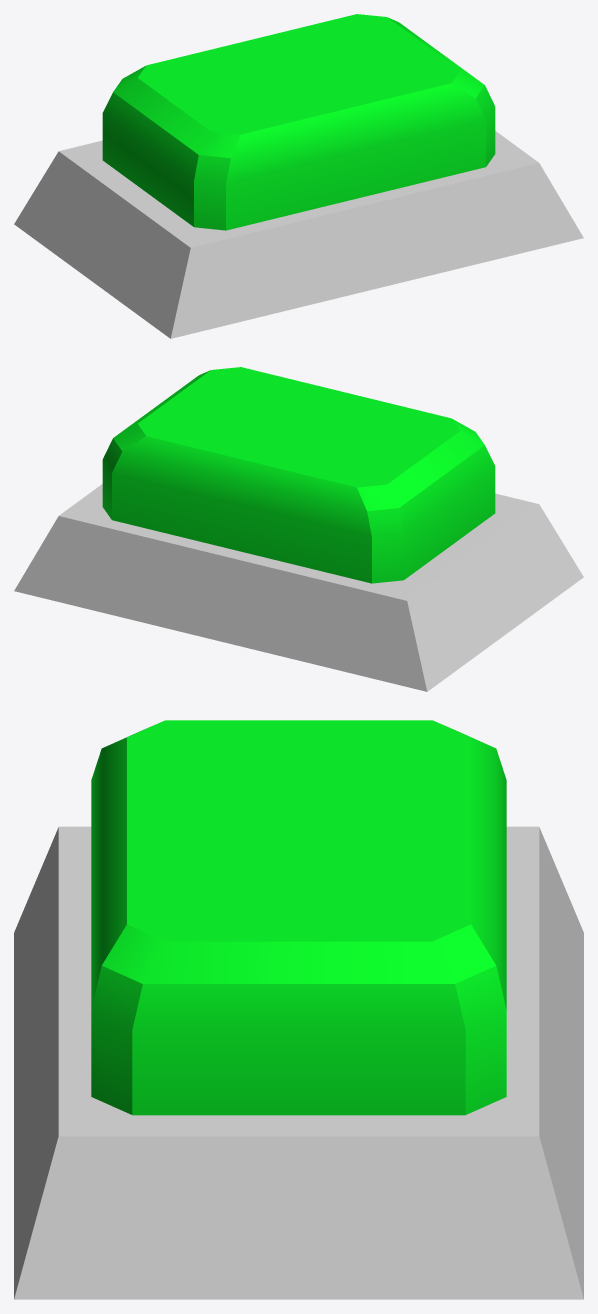
The model's file is LED_2_Green.fbx.
The picture shows the model from 3 angles, top to bottom: view 1: azimuth 30°, elevation 25°; view 2: azimuth 150°, elevation 25°; view 3: azimuth 270°, elevation 25°; orthographic projection. The views are drawn at different scales.
Visible parts, largest first — view 1: LED_2_Green; view 2: LED_2_Green; view 3: LED_2_Green.
Boxes of the visible parts, bbox=[...] form: LED_2_Green: bbox=[14, 14, 583, 338]; LED_2_Green: bbox=[14, 367, 583, 691]; LED_2_Green: bbox=[14, 720, 583, 1299].
Size of the model in its own units: 33.04 by 11.99 by 21.7.
